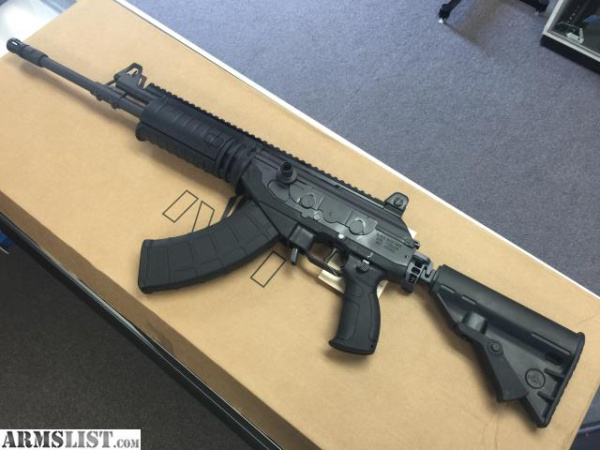ak47: (7, 40, 584, 427)
